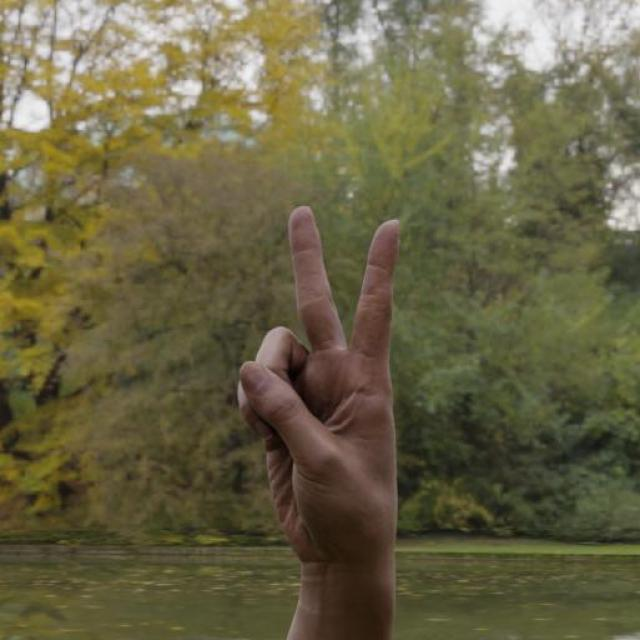V: (229, 200, 412, 576)
